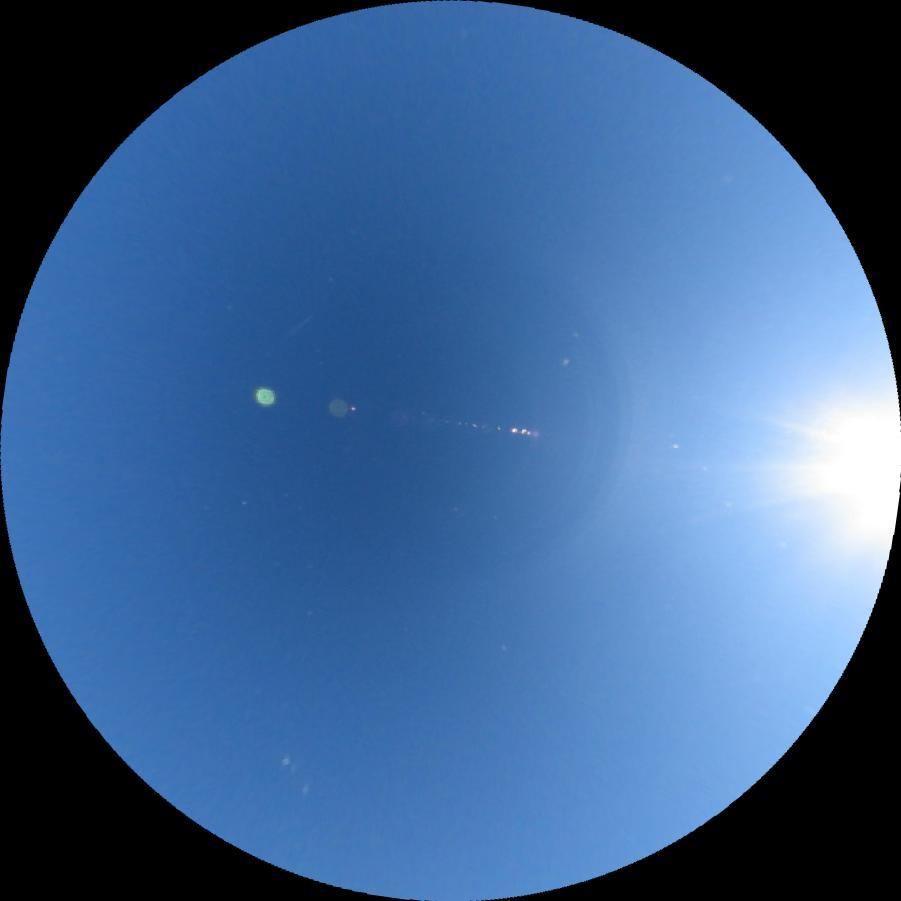contrail young: (275, 314, 314, 345)
sun: (822, 402, 900, 561)
